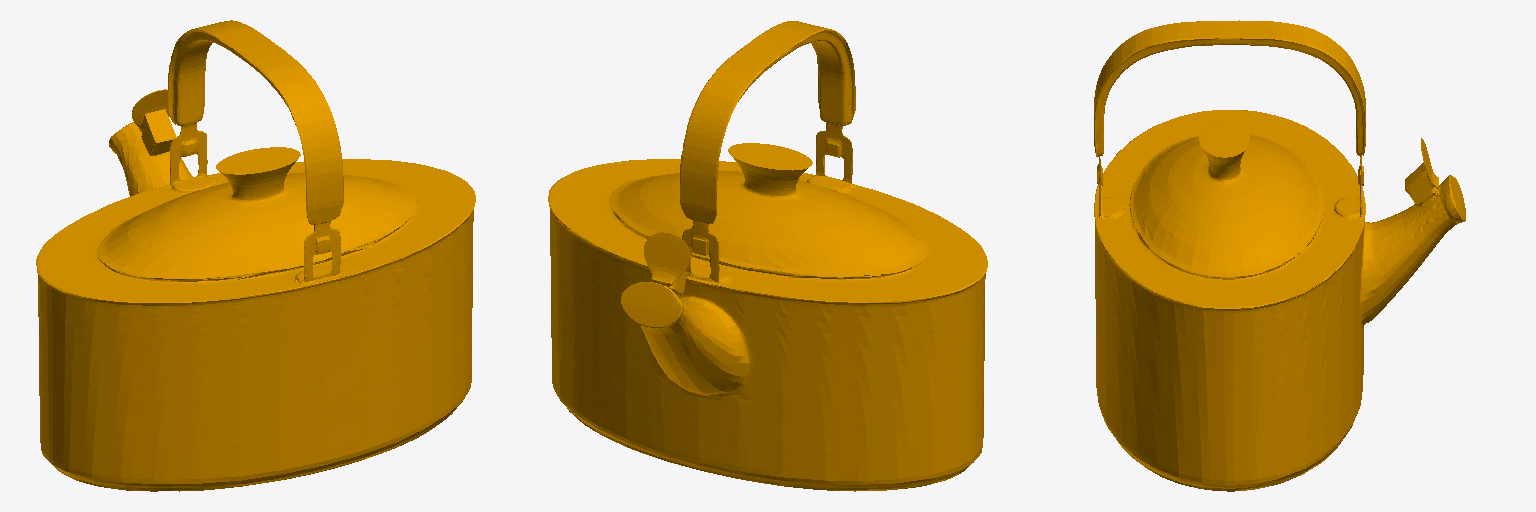
The robot description file, URDF, robot "kettle":
<?xml version="1.0"?>
<robot name="kettle">
  <link name="kettle">
    <visual>
      <origin xyz="0 0 0" rpy="0 0 0"/>
      <geometry>
        <mesh filename="kettle.obj" scale="1 1 1"/>
      </geometry>
    </visual>
    <collision>
      <origin xyz="0 0 0" rpy="0 0 0"/>
      <geometry>
        <mesh filename="kettle.obj" scale="1 1 1"/>
      </geometry>
    </collision>
    <inertial>
      <origin xyz="0 0 0" rpy="0 0 0"/>
      <mass value="0.07000000"/>
      <inertia ixx="0.0000720358" ixy="0" ixz="0" iyy="0.0000918692" iyz="0" izz="0.0000854583"/>
    </inertial>
  </link>
</robot>

--- Render facts (derived) ---
3 views of the same robot in one strip: view 1: azimuth 30°, elevation 25°; view 2: azimuth 150°, elevation 25°; view 3: azimuth 270°, elevation 25° (orthographic).
Robot: kettle — 1 links, 0 joints (none); root link kettle; default pose: every joint at zero.
Links seen in each view (by area): view 1: kettle; view 2: kettle; view 3: kettle.
Link boxes in pixels (left/top/right/bottom): kettle: left=36, top=20, right=475, bottom=491; kettle: left=548, top=21, right=987, bottom=491; kettle: left=1094, top=20, right=1465, bottom=491.
Size in the robot's own frame: 0.095 by 0.075 by 0.082 metres.
Meshes: 1 distinct files referenced, 1 mesh visuals loaded (1 OBJ).
